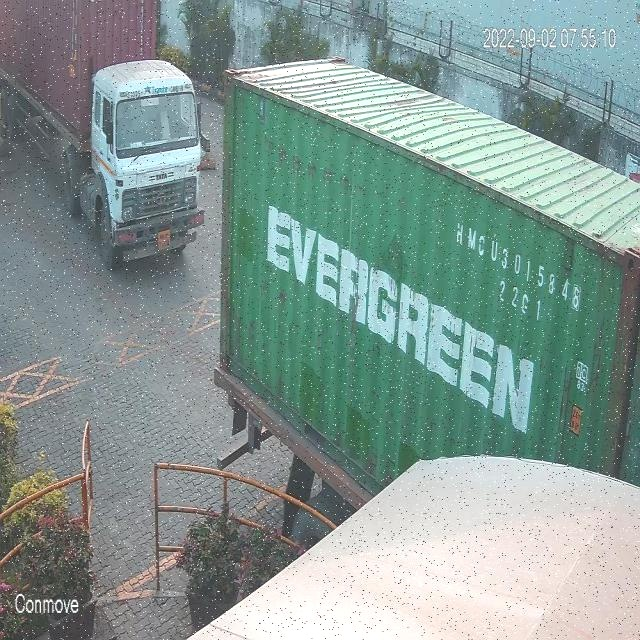Dent: (389, 78, 458, 133)
Rusty: (213, 60, 252, 384), (609, 228, 640, 474)
